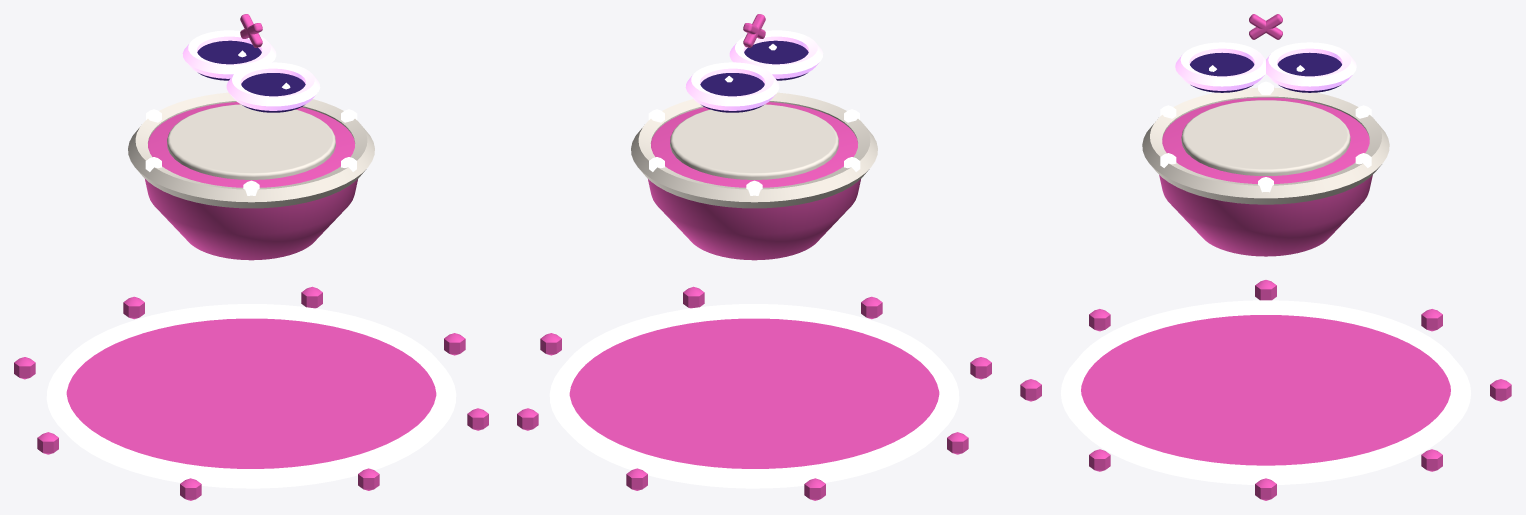
File: pu_split.glb
The picture shows the model from 3 angles, left to right: view 1: azimuth 30°, elevation 25°; view 2: azimuth 150°, elevation 25°; view 3: azimuth 270°, elevation 25°; orthographic projection.
Visible parts, largest first — view 1: pu_split.002, capsule.007; view 2: pu_split.002, capsule.007; view 3: pu_split.002, capsule.007.
Part boxes in pixels (left/top/right/bottom): pu_split.002: left=14, top=286, right=488, bottom=500; capsule.007: left=128, top=14, right=374, bottom=260; pu_split.002: left=517, top=286, right=991, bottom=500; capsule.007: left=631, top=14, right=877, bottom=260; pu_split.002: left=1020, top=280, right=1511, bottom=500; capsule.007: left=1142, top=14, right=1389, bottom=256.
Bounding box in the file's own units: 1.56 × 1.36 × 1.57.
1 material, 1 textured.
